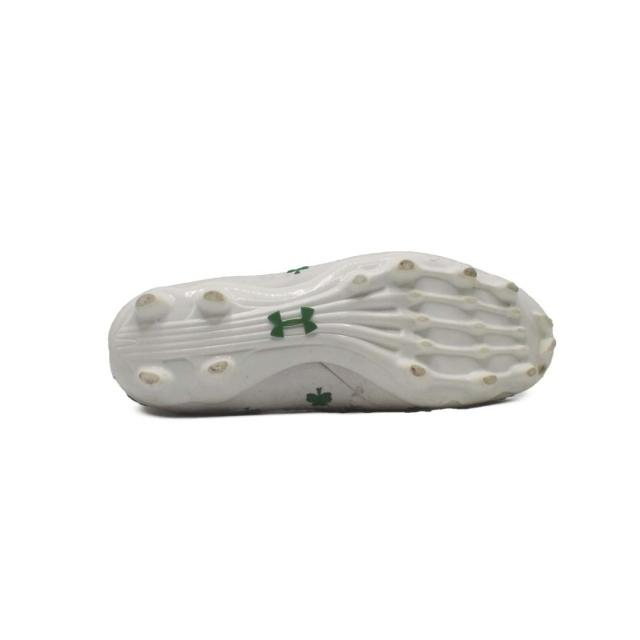outersole: (108, 260, 555, 408)
